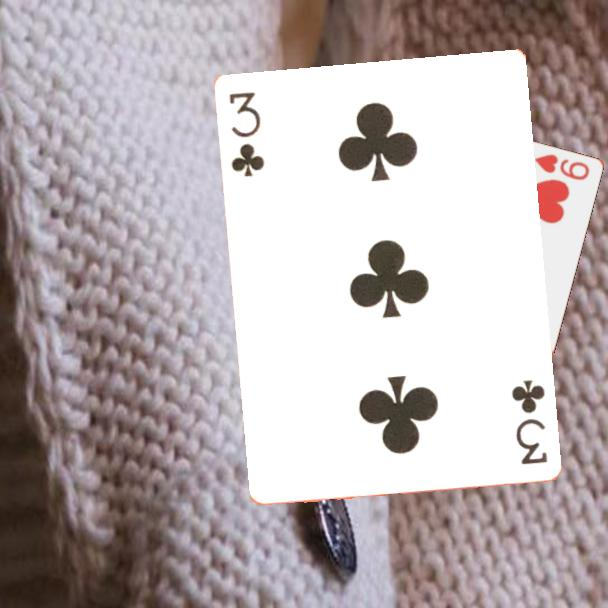c03: (507, 376, 550, 467), (225, 88, 267, 180)
h09: (530, 151, 592, 183)
